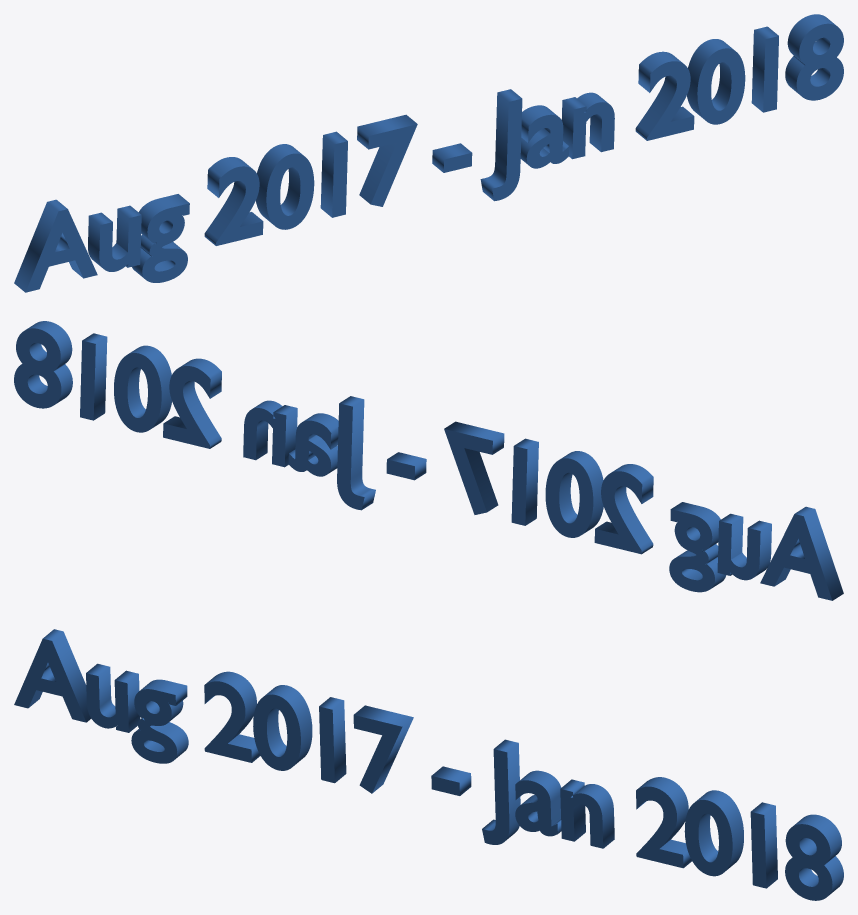
Rendered from aug17.glb.
3 renders of one model, top to bottom at view 1: azimuth 30°, elevation 25°; view 2: azimuth 150°, elevation 25°; view 3: azimuth 330°, elevation 25°, orthographic.
Parts seen in each view (by area): view 1: Text; view 2: Text; view 3: Text.
Part boxes in pixels (x1=…): Text: x1=14, y1=14, x2=843, y2=292; Text: x1=14, y1=321, x2=843, y2=600; Text: x1=14, y1=629, x2=843, y2=900.
Bounding box in the file's own units: 8.22 × 0.9703 × 0.2505.
